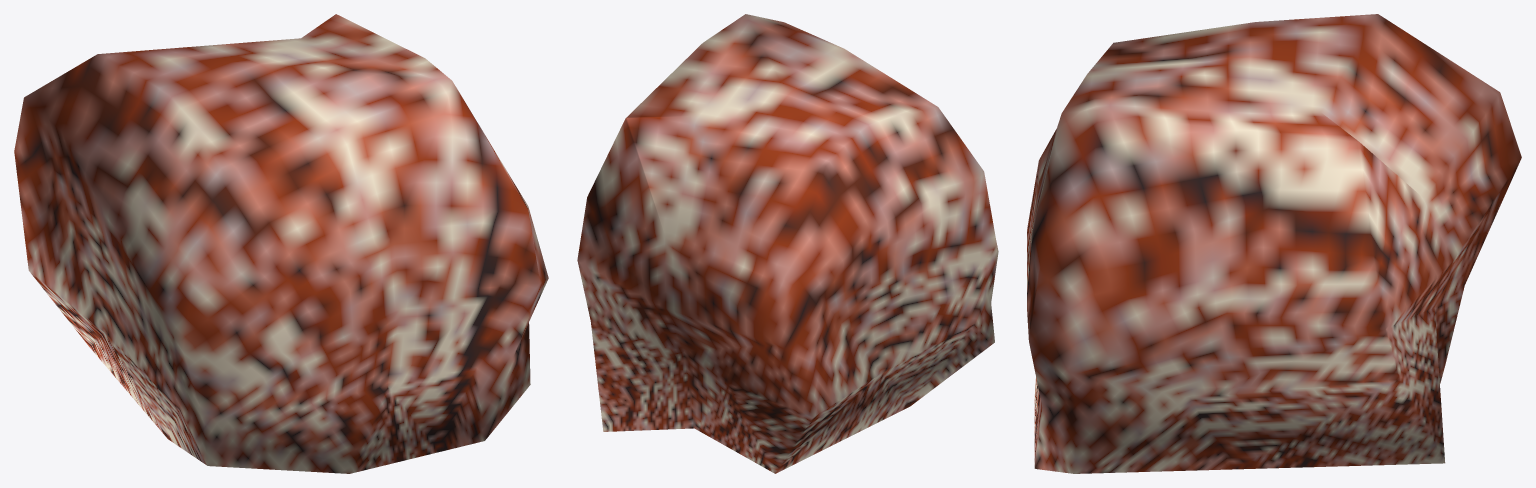
The model's file is Rocks_02_c.fbx.
3 views of the same model, side by side, from view 1: azimuth 30°, elevation 25°; view 2: azimuth 150°, elevation 25°; view 3: azimuth 270°, elevation 25° (orthographic). The views are drawn at different scales.
Visible parts, largest first — view 1: Rock_3; view 2: Rock_3; view 3: Rock_3.
Boxes of the visible parts, x1,y1,x2,y2 form: Rock_3: (14, 14, 548, 473); Rock_3: (577, 14, 998, 473); Rock_3: (1027, 14, 1521, 473).
Size of the model in its own units: 149 by 134 by 169.
